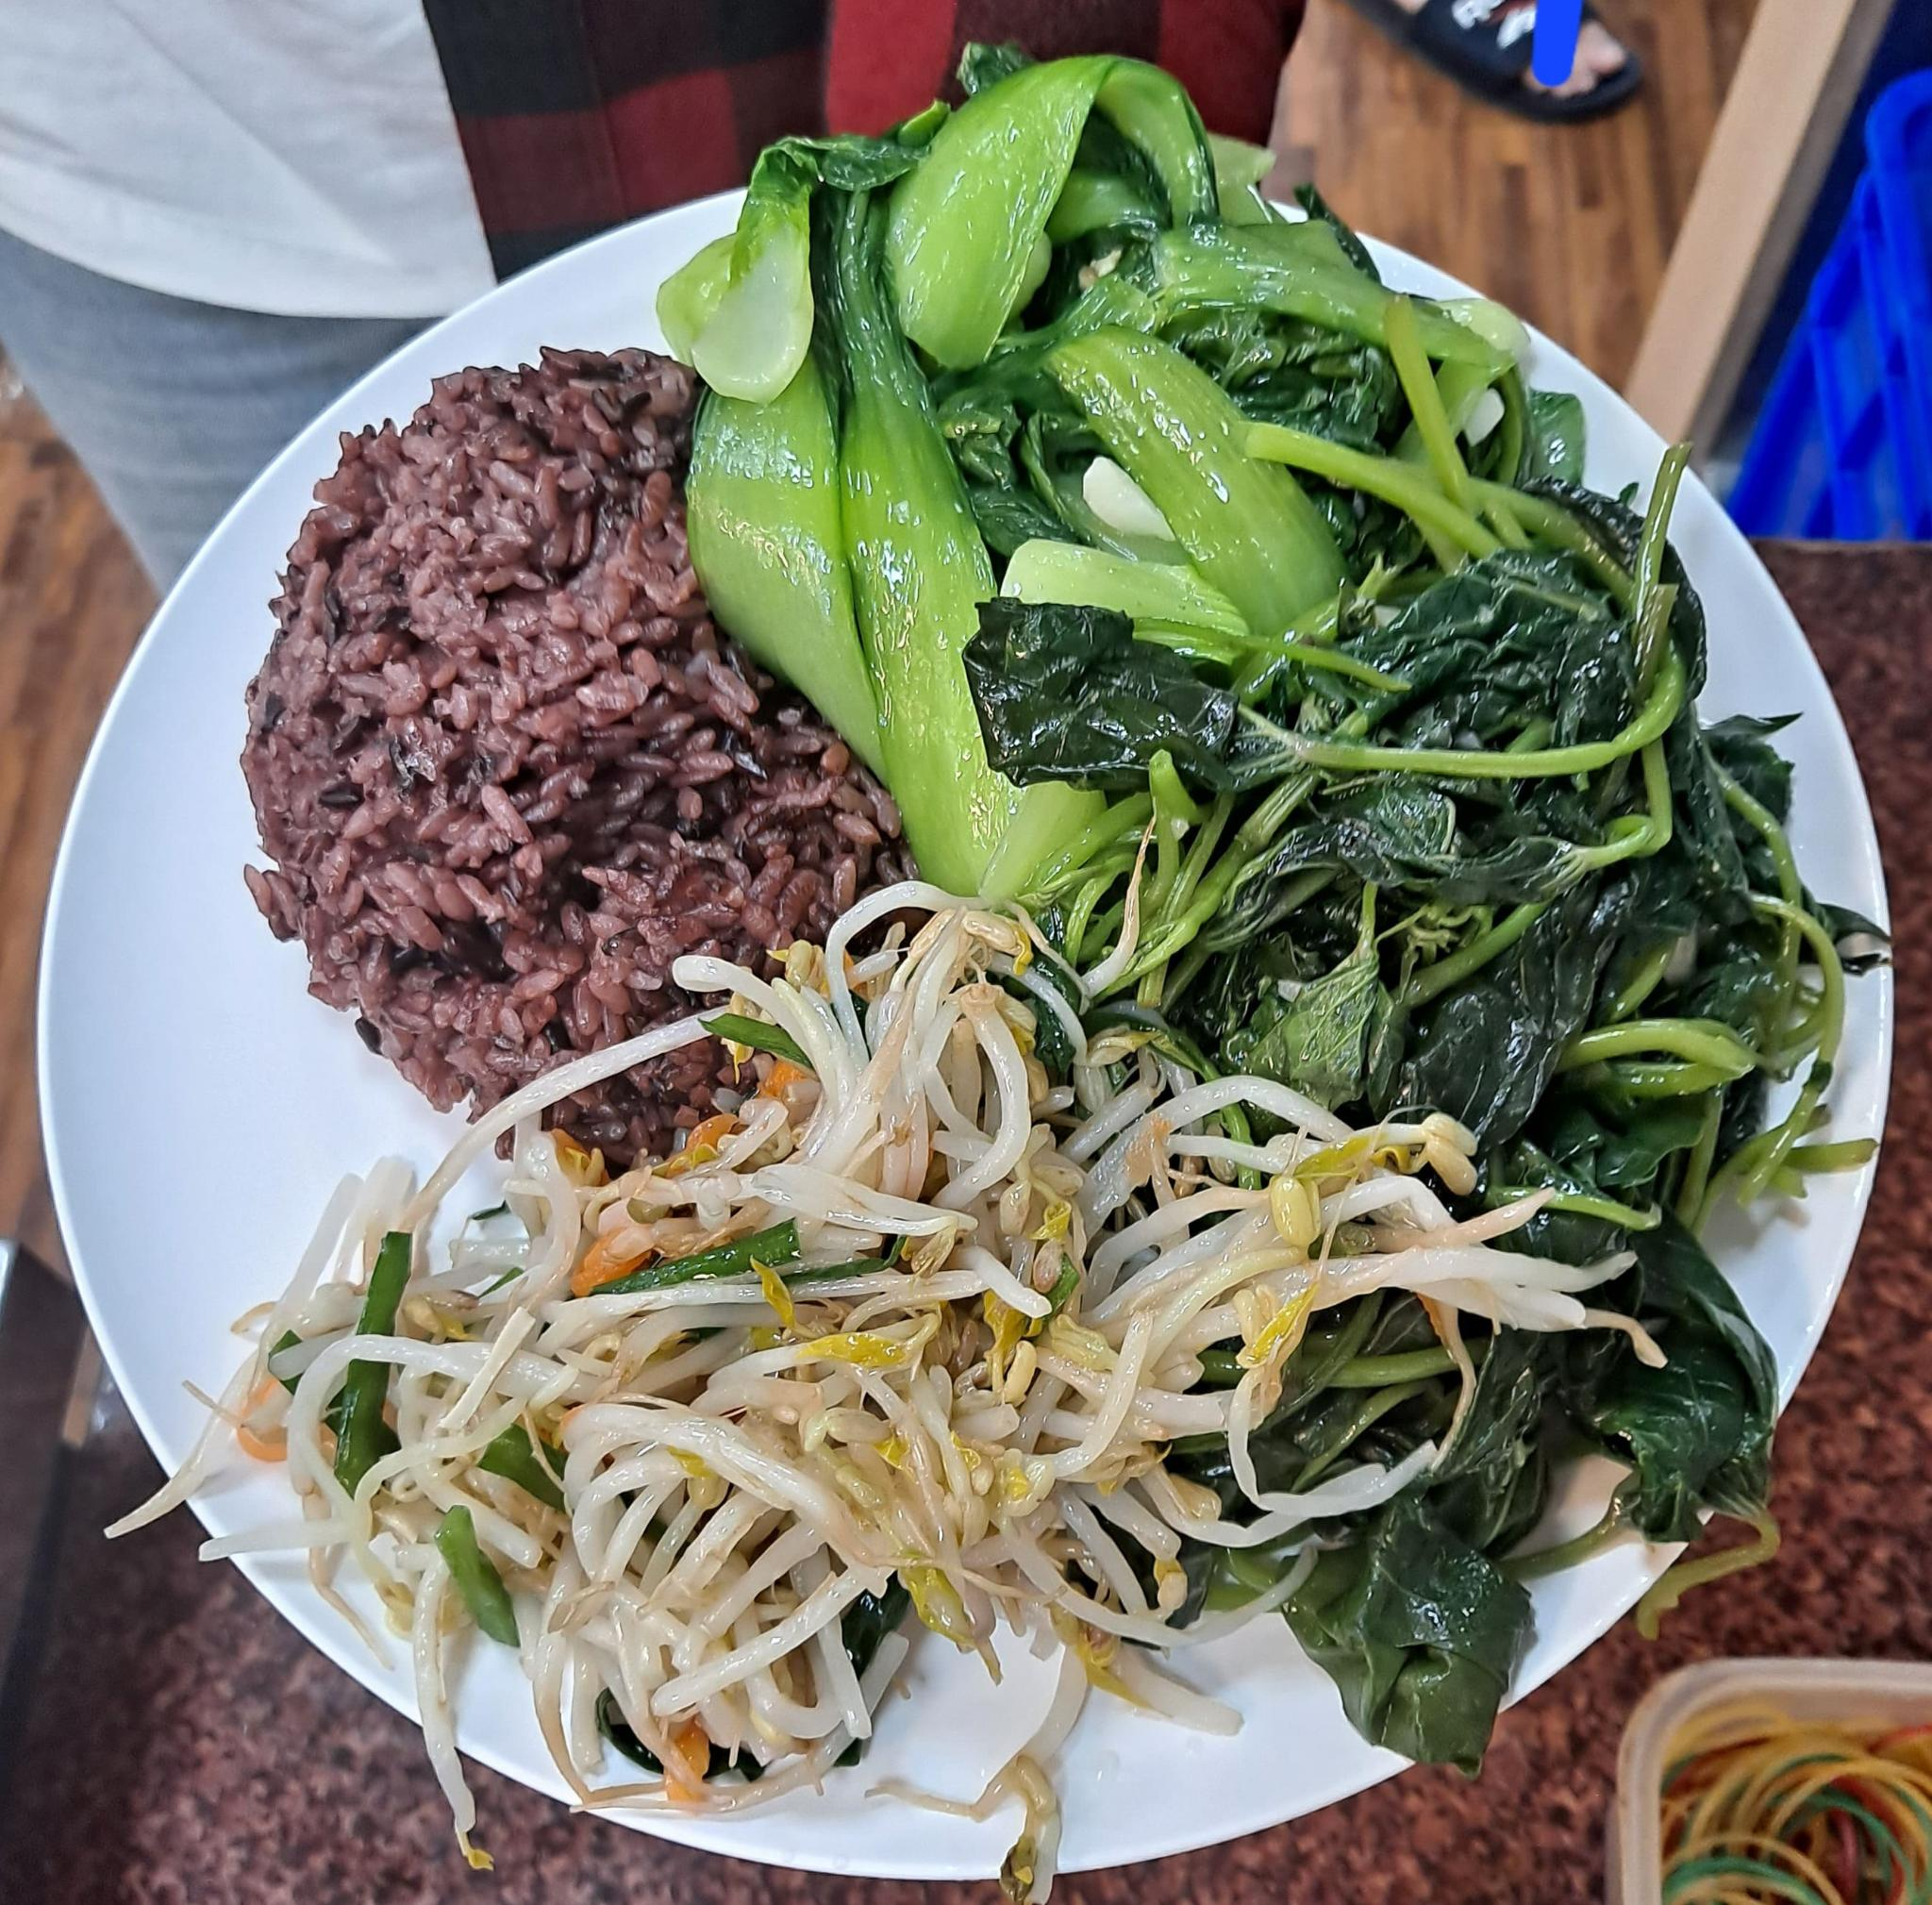big fried chicken leg: (33, 127, 1906, 1905)
braised fish: (234, 349, 910, 1164)
braised fish fillet: (188, 909, 1616, 1811), (985, 504, 1808, 1753), (687, 51, 1465, 911)
